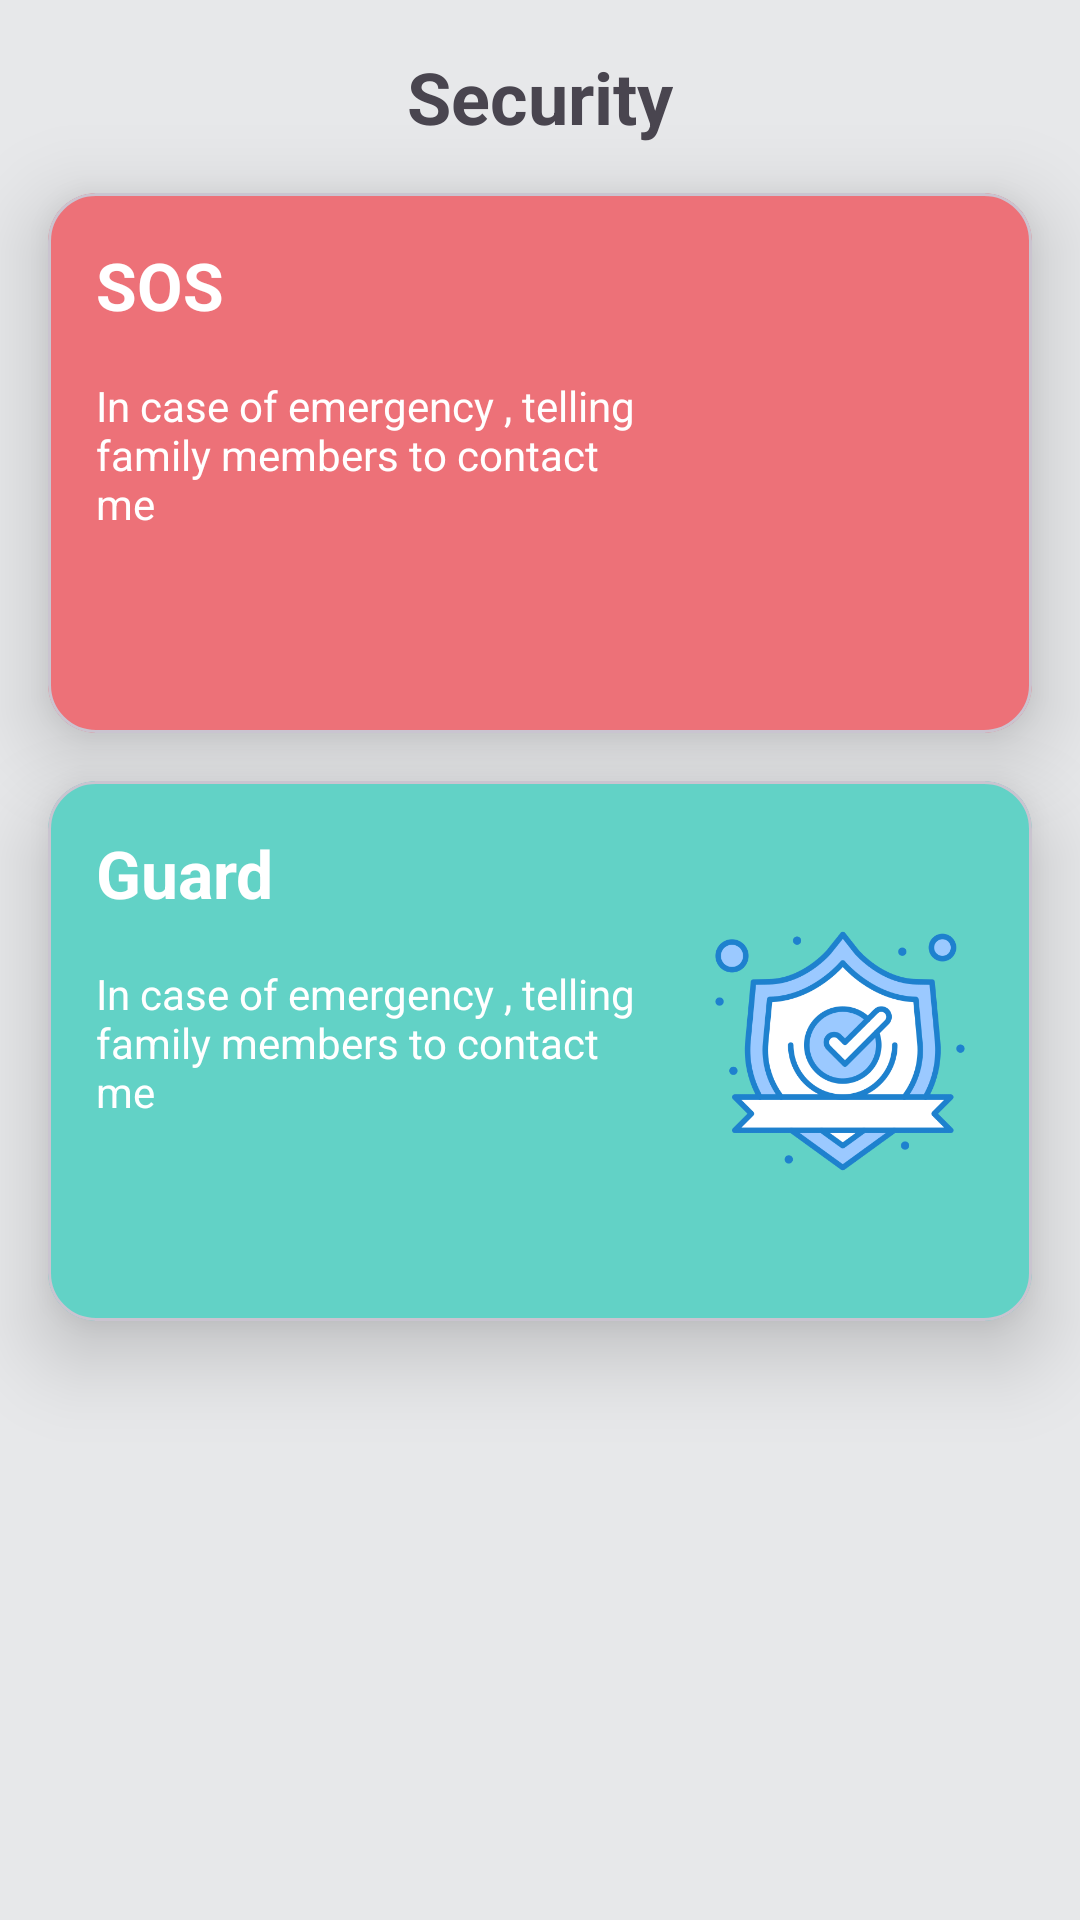

Point at icon controls on the screen. Image size 1080px×1920px, points as [x,y].
guard: [840,1051]
